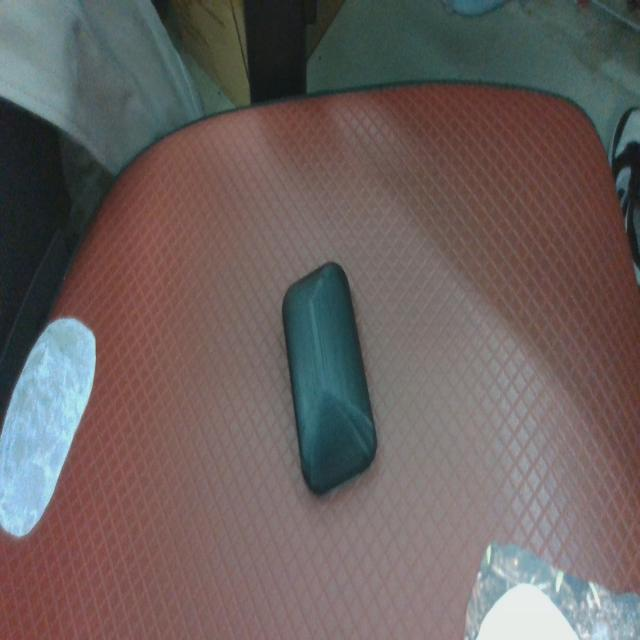non-organic waste: (283, 262, 376, 498), (0, 320, 96, 535), (479, 584, 578, 640)
